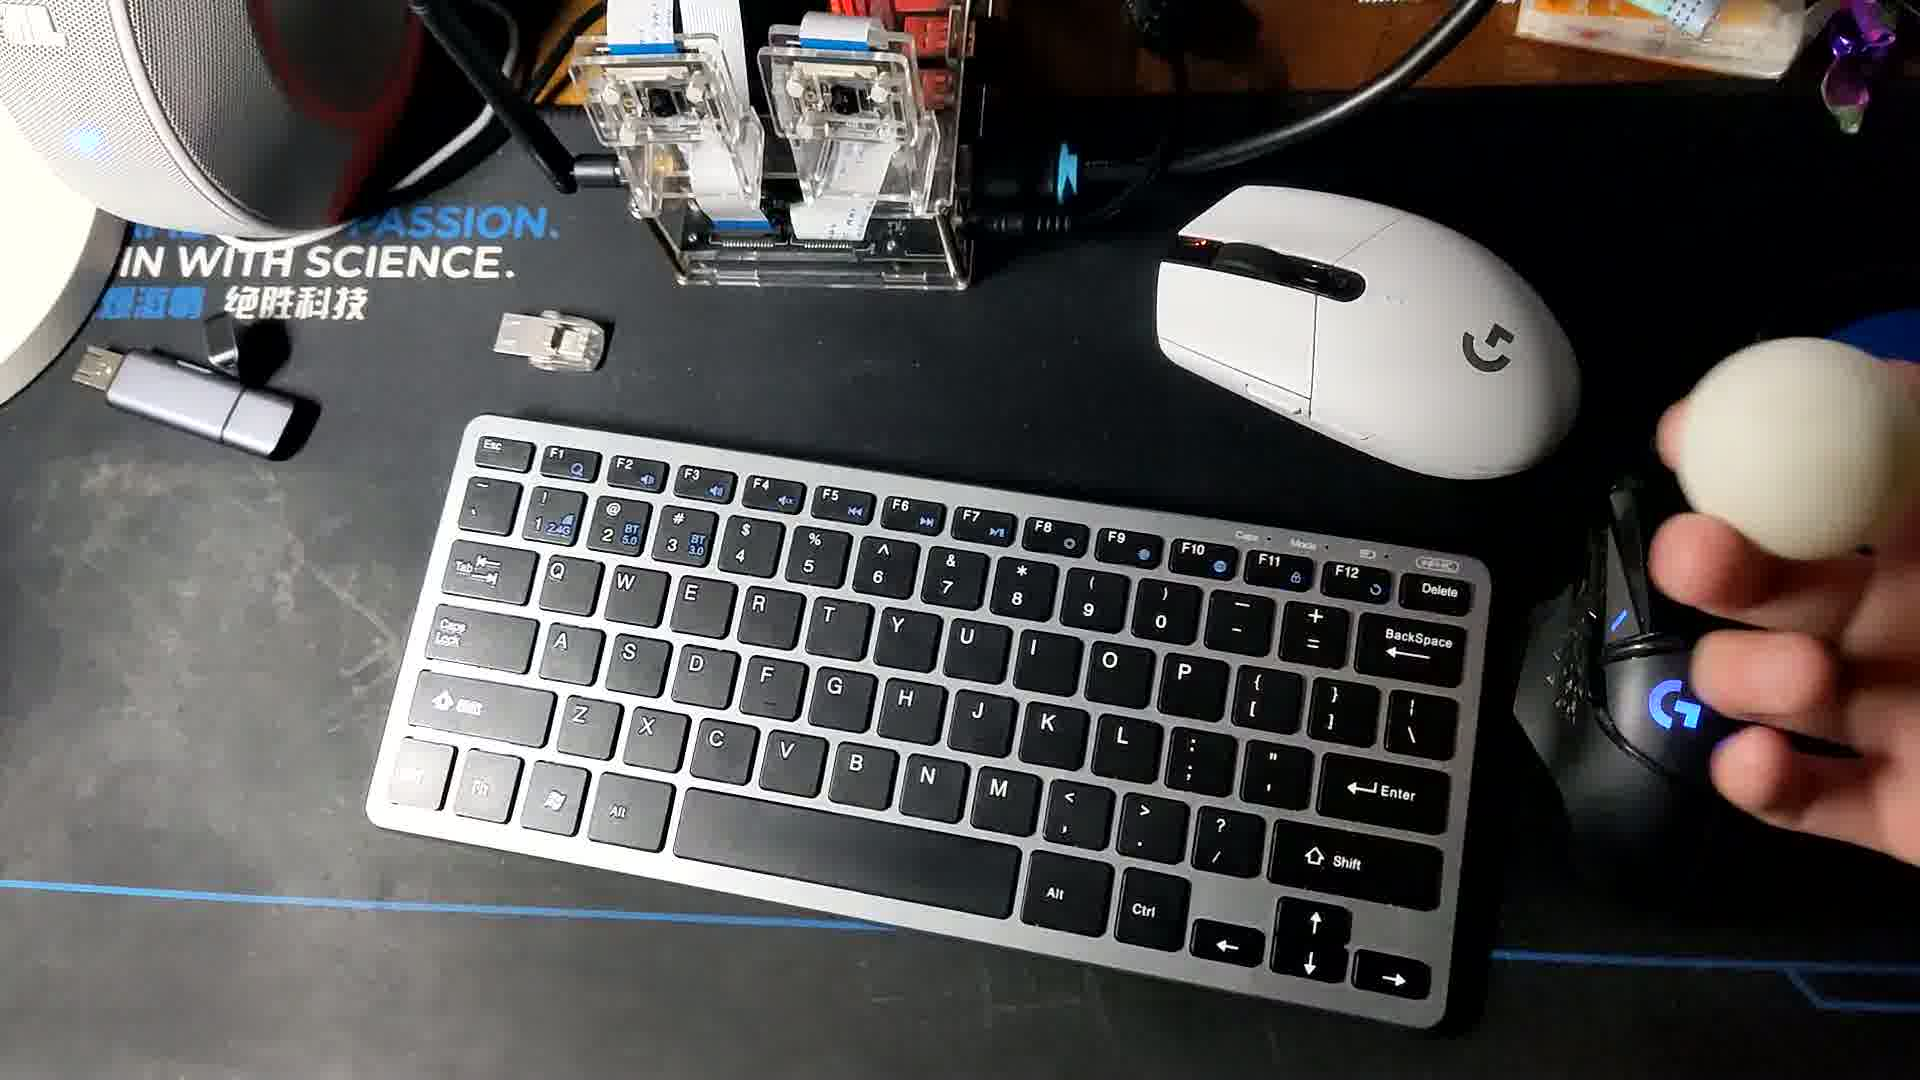Ball: (1679, 335, 1905, 564)
